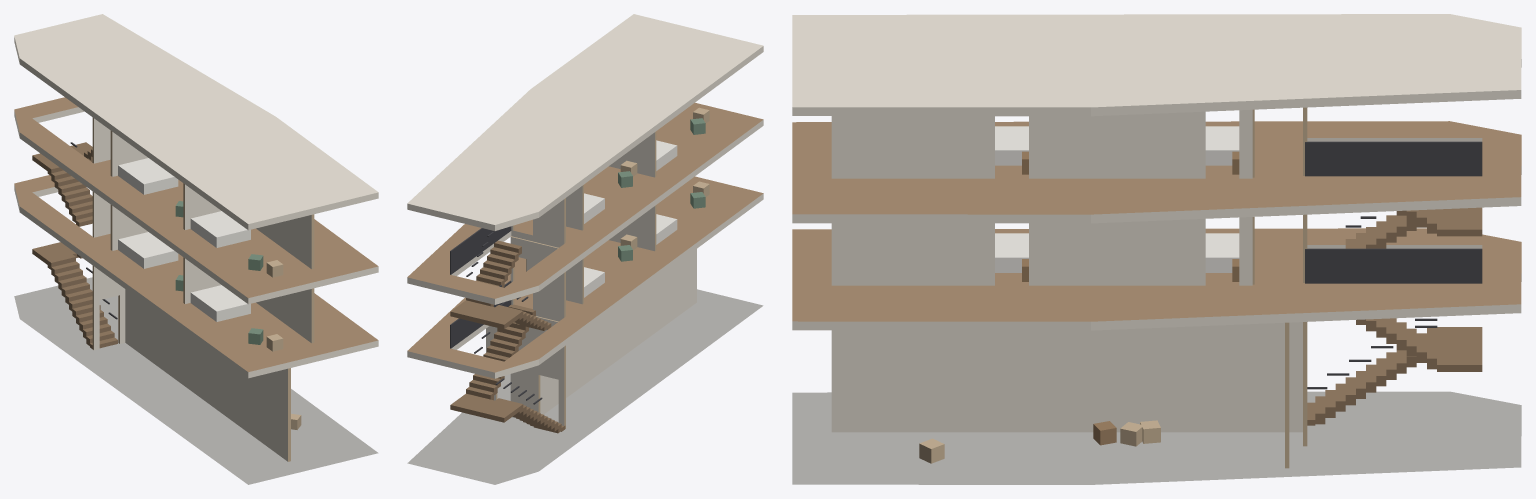
Rendered from interior.glb.
3 renders of one model, left to right at view 1: azimuth 30°, elevation 25°; view 2: azimuth 150°, elevation 25°; view 3: azimuth 270°, elevation 25°, orthographic. The views are drawn at different scales.
Parts seen in each view (by area): view 1: slabs, partitions, stair, coarse-s2, coarse-s1; view 2: slabs, partitions, stair, coarse-s1, coarse-s2; view 3: slabs, partitions, stair, coarse-s1, coarse-s2, coarse-s0.
Part boxes in pixels (bbox=[...]): slabs: bbox=[14, 14, 378, 484]; partitions: bbox=[92, 117, 314, 461]; stair: bbox=[32, 142, 117, 348]; coarse-s2: bbox=[118, 158, 283, 277]; coarse-s1: bbox=[118, 232, 283, 351]; slabs: bbox=[407, 14, 763, 484]; partitions: bbox=[486, 131, 696, 428]; stair: bbox=[450, 226, 565, 433]; coarse-s1: bbox=[584, 181, 709, 297]; coarse-s2: bbox=[584, 107, 709, 223]; slabs: bbox=[792, 14, 1521, 484]; partitions: bbox=[831, 107, 1307, 468]; stair: bbox=[1305, 141, 1482, 425]; coarse-s1: bbox=[995, 233, 1239, 281]; coarse-s2: bbox=[995, 126, 1239, 174]; coarse-s0: bbox=[919, 420, 1160, 463].
Size of the model in its own units: 5.88 by 11.1 by 19.4.
